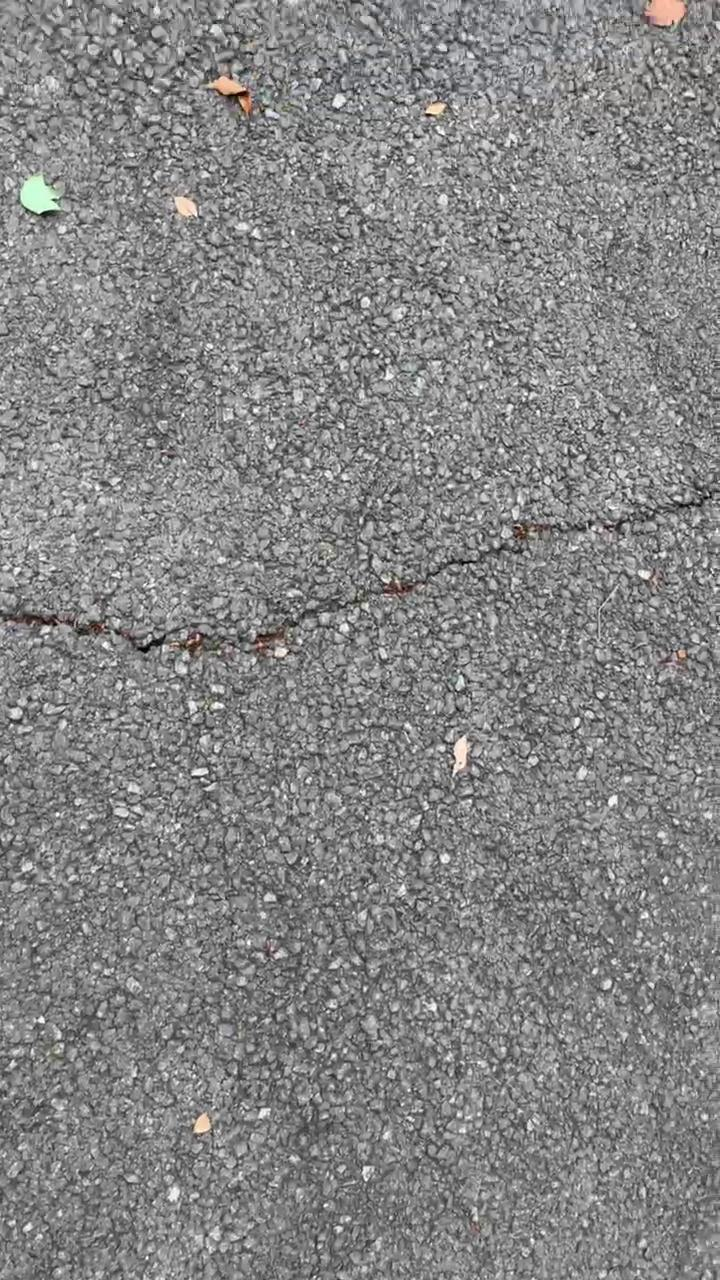Crack: (1, 489, 720, 655)
